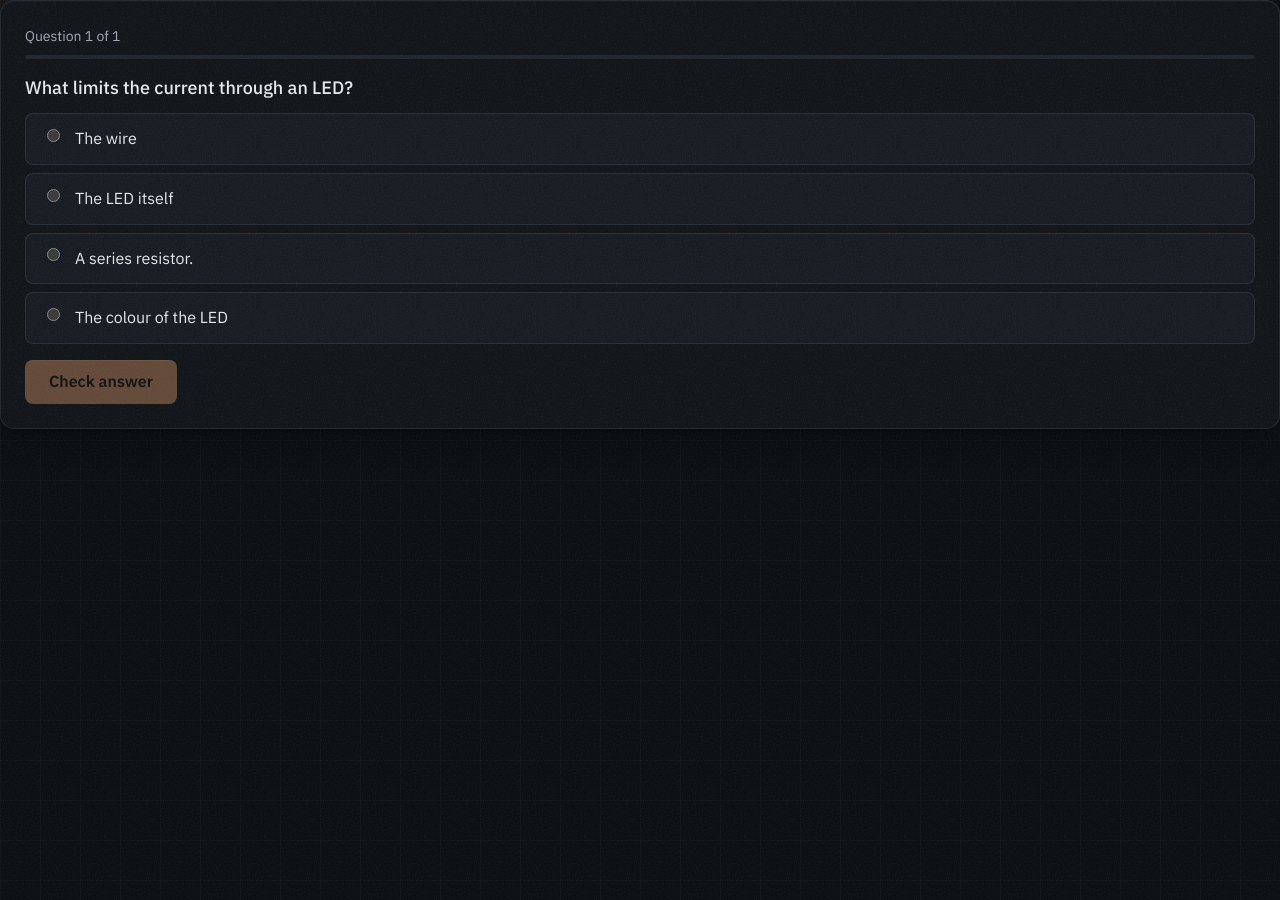
Test: Quiz › does not ask for challenges once they are done
Click the radio button labelled "A series resistor.".
click(54, 255)  # box [47,248,60,261]
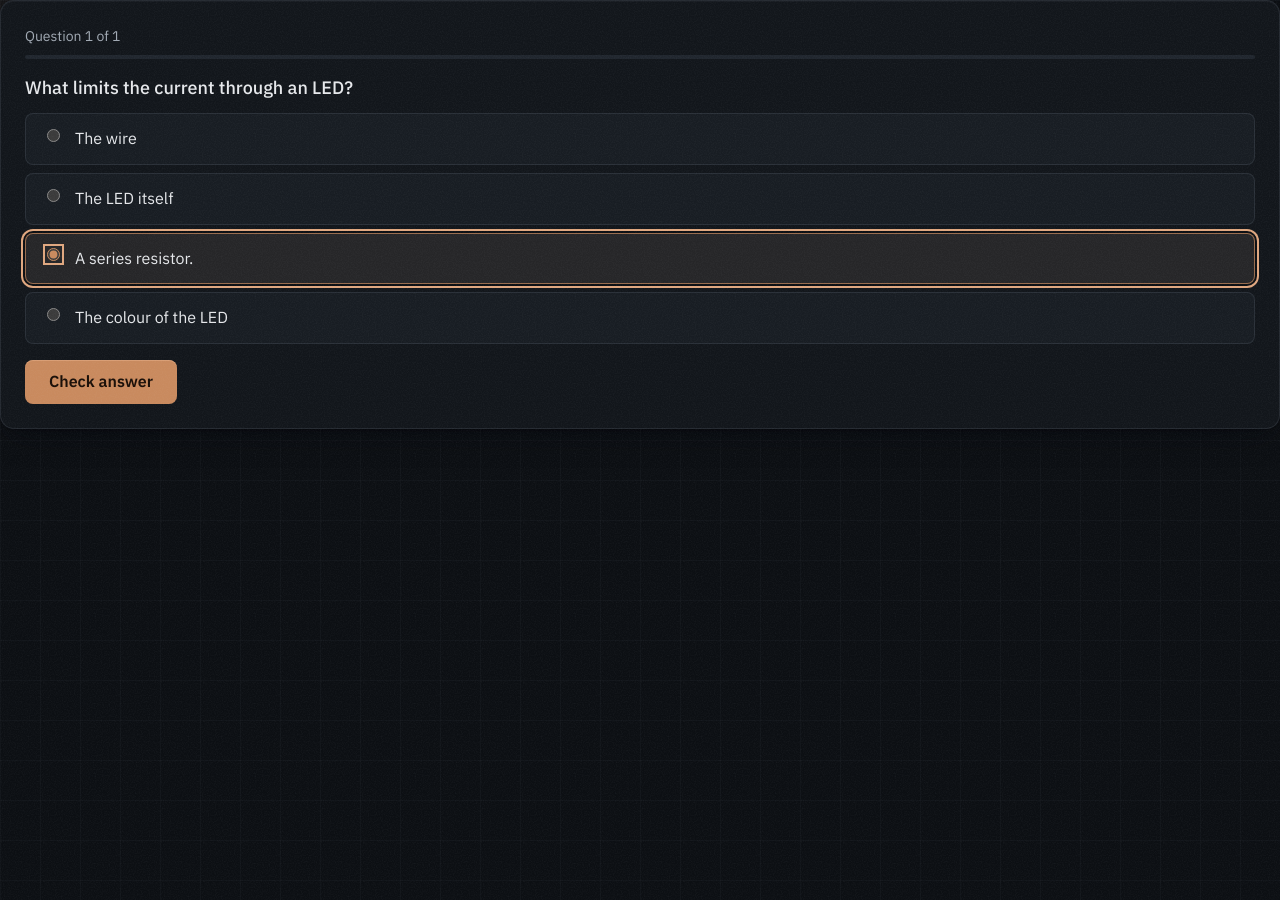
Click the button "Check answer".
click(101, 382)  # box [25,360,177,404]
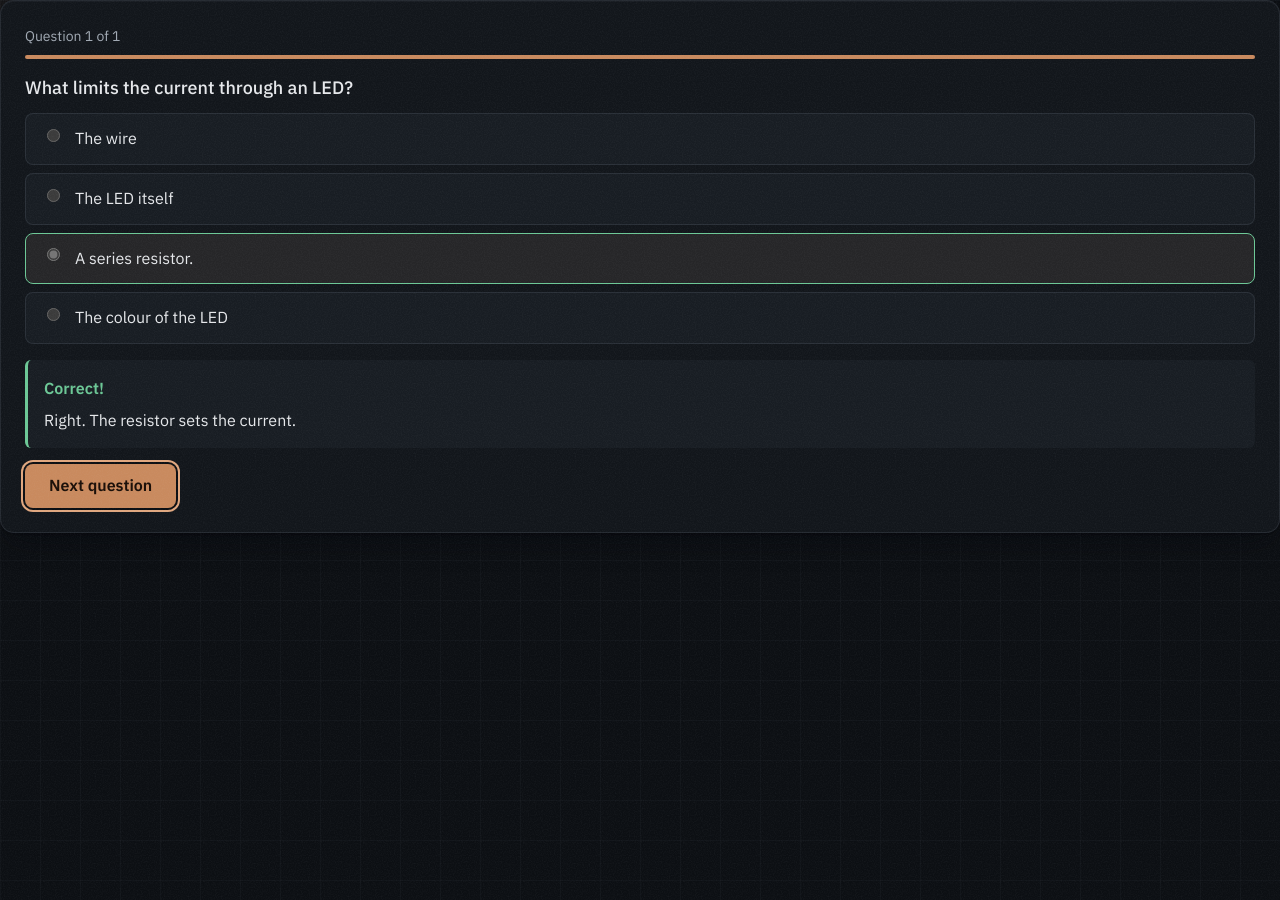
Click the button "Next question".
click(101, 486)  # box [25,464,176,508]
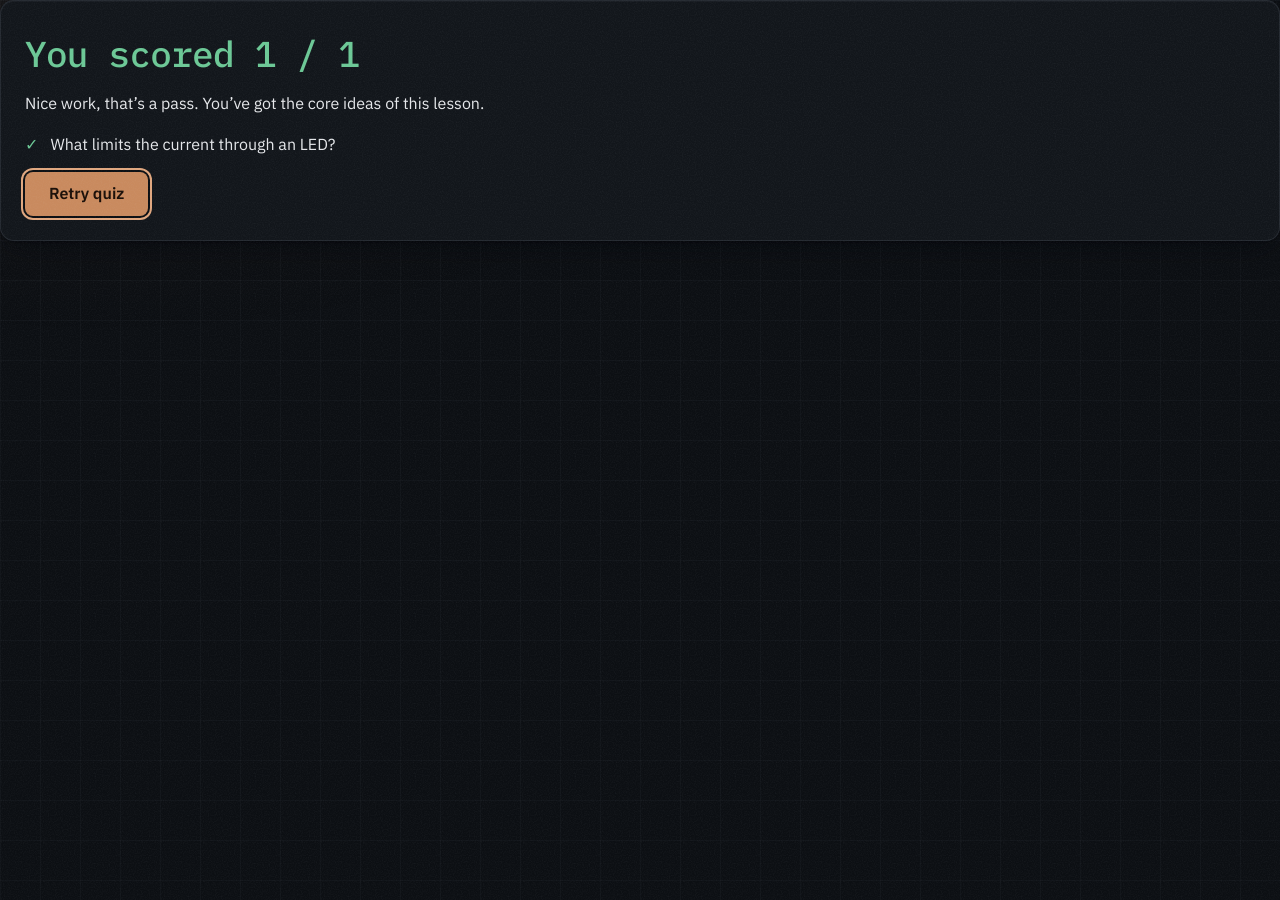
Expected: the text "that’s a pass" is shown, [25,93,484,113]
